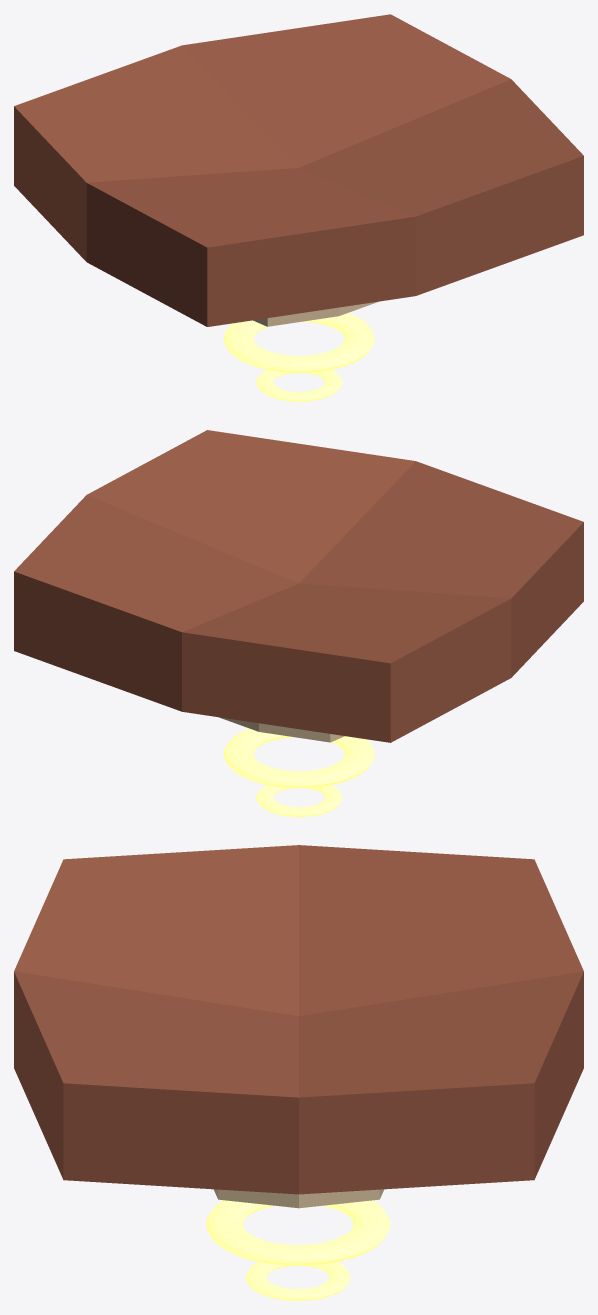
File: seatB.glb
The picture shows the model from 3 angles, top to bottom: view 1: azimuth 30°, elevation 25°; view 2: azimuth 150°, elevation 25°; view 3: azimuth 270°, elevation 25°; orthographic projection. The views are drawn at different scales.
Parts seen in each view (by area): view 1: Cube.007; view 2: Cube.007; view 3: Cube.007.
Part boxes in pixels (x1,y1,x2,y2): Cube.007: [14, 14, 583, 401]; Cube.007: [14, 430, 583, 816]; Cube.007: [14, 845, 583, 1300].
Bounding box in the file's own units: 3.96 × 2.27 × 3.78.
